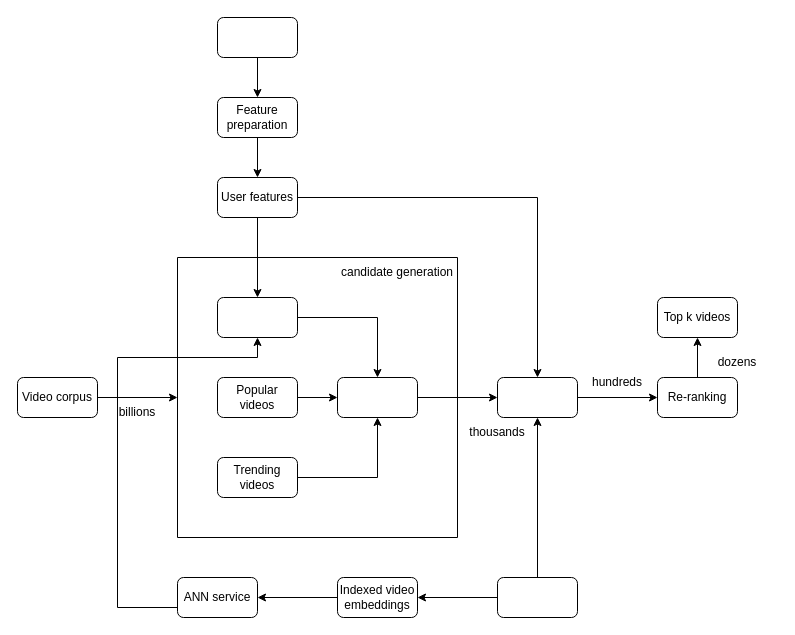
Some shapes in this 795 by 635 pixel diagram are drawn without their labels. The shapes that lost their labels are listed below. From the top down, each one's centre as x and y in pixels, then its label:
At (x=257, y=37): "User".
At (x=257, y=317): "Relevant videos".
At (x=377, y=397): "Content-based filtering".
At (x=537, y=397): "Ranking".
At (x=537, y=597): "Video feature store".
